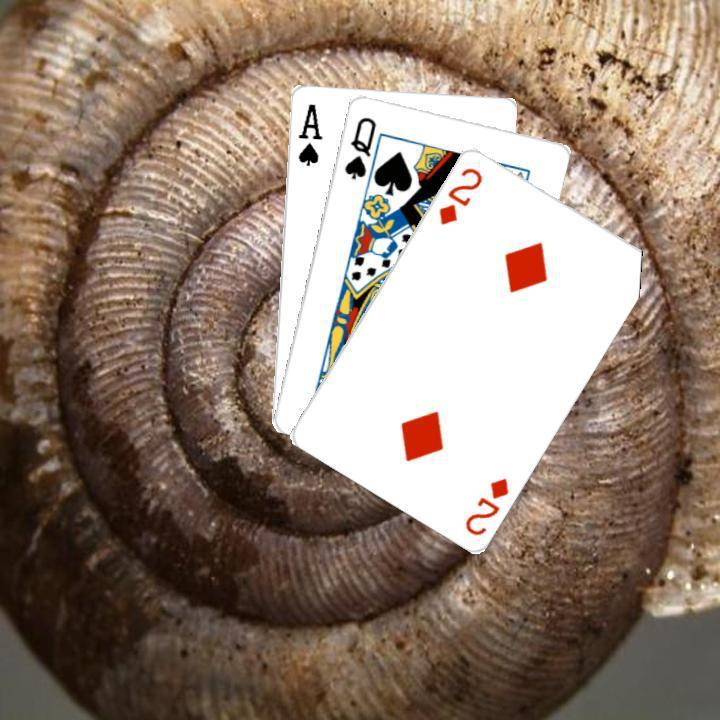2: (434, 162, 485, 227), (460, 473, 511, 537)
A: (293, 98, 324, 167)
Q: (339, 112, 378, 181)
